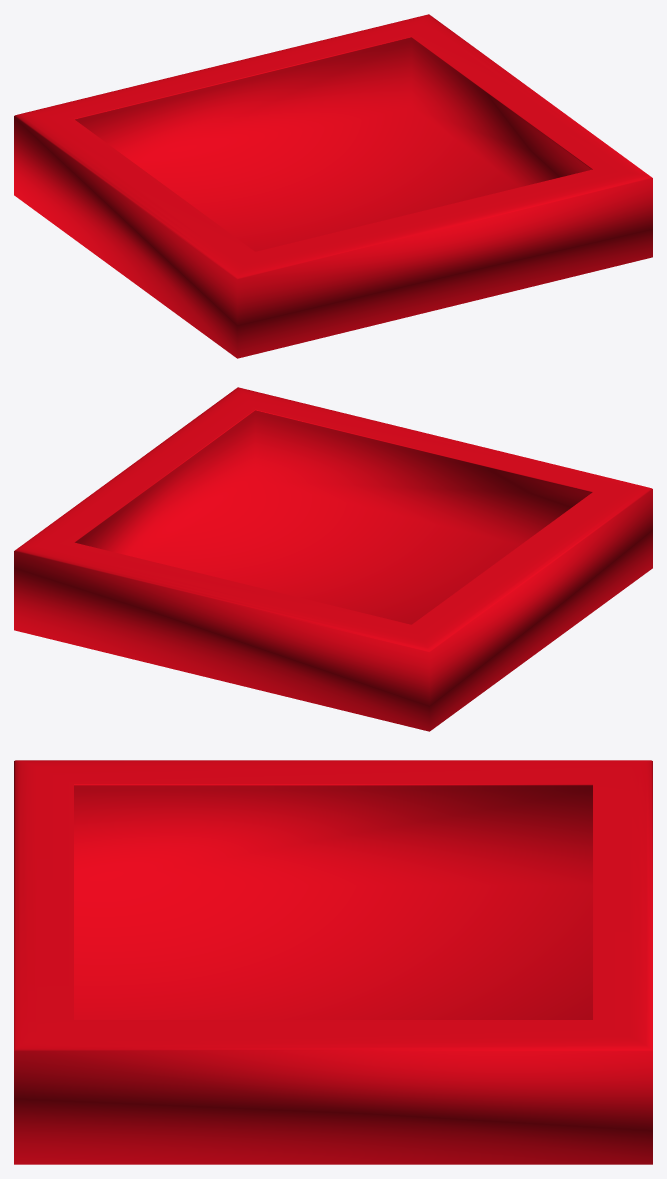
The model's file is piscina.fbx.
The picture shows the model from 3 angles, top to bottom: view 1: azimuth 30°, elevation 25°; view 2: azimuth 150°, elevation 25°; view 3: azimuth 270°, elevation 25°; orthographic projection. The views are drawn at different scales.
Visible parts, largest first — view 1: Cube; view 2: Cube; view 3: Cube.
Part boxes in pixels (left/top/right/bottom): Cube: left=14, top=14, right=652, bottom=358; Cube: left=14, top=387, right=652, bottom=731; Cube: left=14, top=760, right=652, bottom=1164.
Bounding box in the file's own units: 1157 × 218 × 1077.
